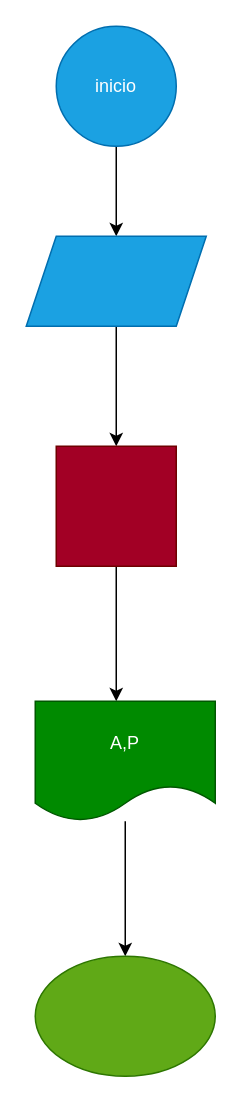
The diagram is 242 pixels wide and 1103 high, and some of its shapes have lost their labels. Each missing label, with the box of its shape:
A=pi*r P=2pi*r: (55, 445, 176, 566)
fin: (34, 955, 215, 1076)
